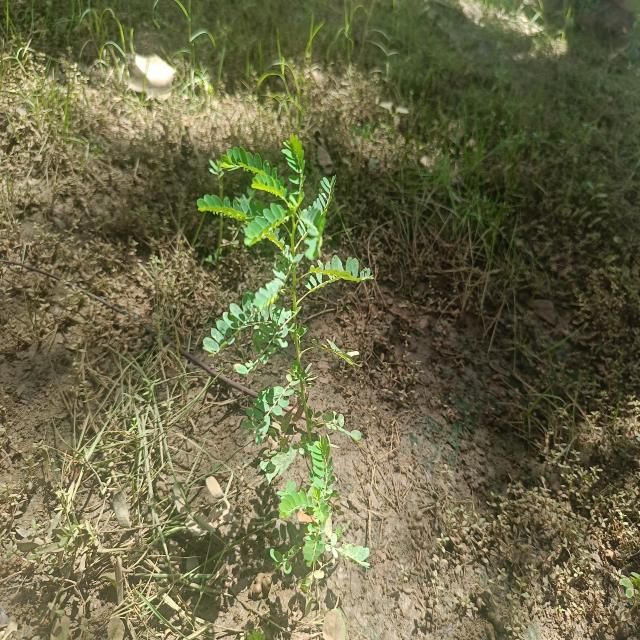weed: (193, 136, 388, 439), (268, 433, 339, 567)
